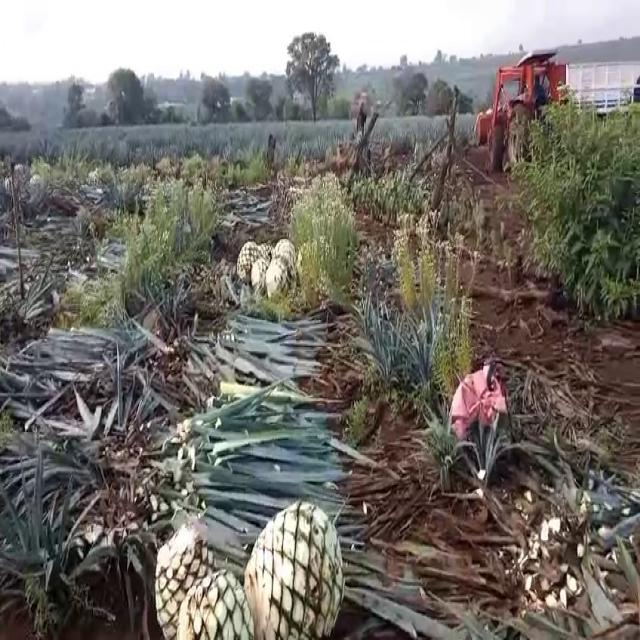agave: (244, 498, 353, 640), (153, 521, 223, 640), (174, 563, 255, 640), (264, 256, 290, 306), (236, 232, 259, 285), (272, 233, 299, 273), (248, 256, 269, 294)
